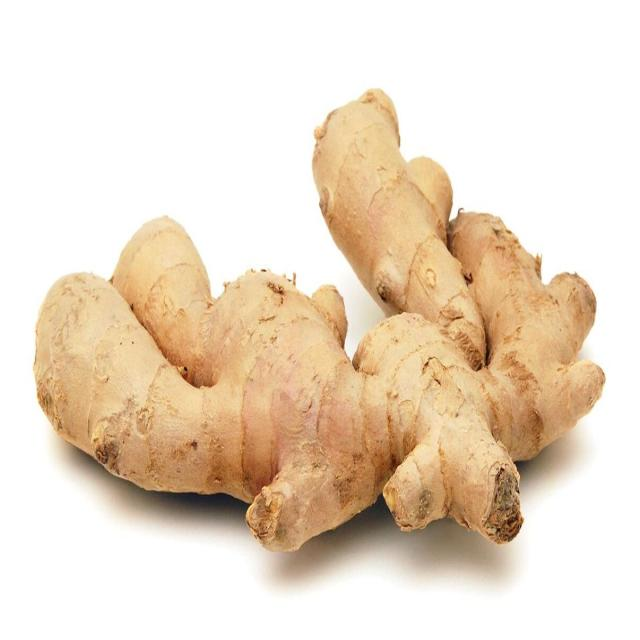ginger-root: (19, 74, 614, 586)
